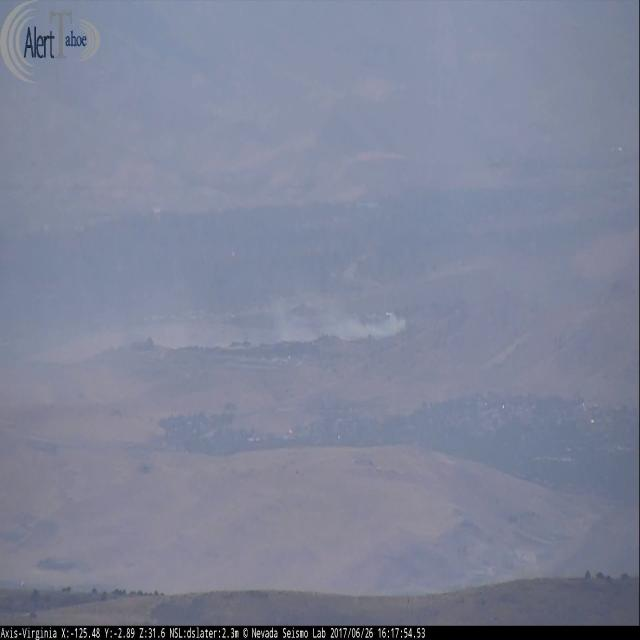smoke: (319, 298, 406, 344)
